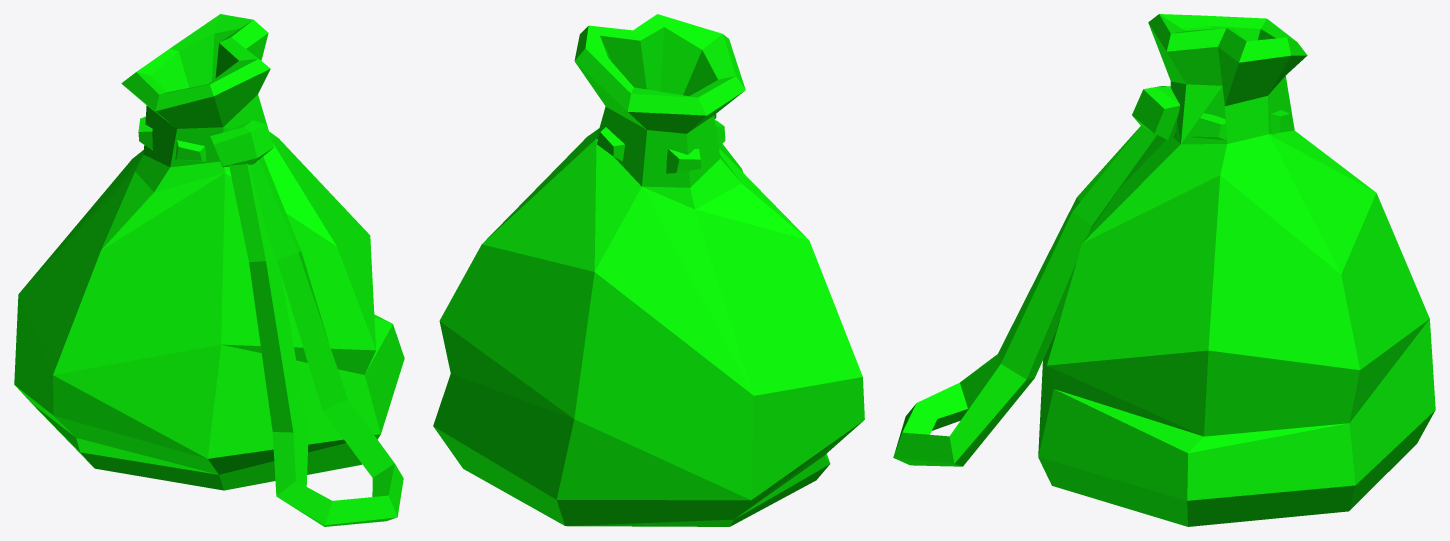
Rendered from SM_Pouch_Money_Small_Standing_Closed_Fantasy.fbx.
3 renders of one model, left to right at view 1: azimuth 30°, elevation 25°; view 2: azimuth 150°, elevation 25°; view 3: azimuth 270°, elevation 25°, orthographic. The views are drawn at different scales.
Parts seen in each view (by area): view 1: pouch-money-small-standing-closed-fantasy; view 2: pouch-money-small-standing-closed-fantasy; view 3: pouch-money-small-standing-closed-fantasy.
Part boxes in pixels (<box>): pouch-money-small-standing-closed-fantasy: <box>14,14,404,526</box>; pouch-money-small-standing-closed-fantasy: <box>433,14,864,526</box>; pouch-money-small-standing-closed-fantasy: <box>893,14,1435,526</box>.
Bounding box in the file's own units: 0.1841 × 0.1945 × 0.2206.
